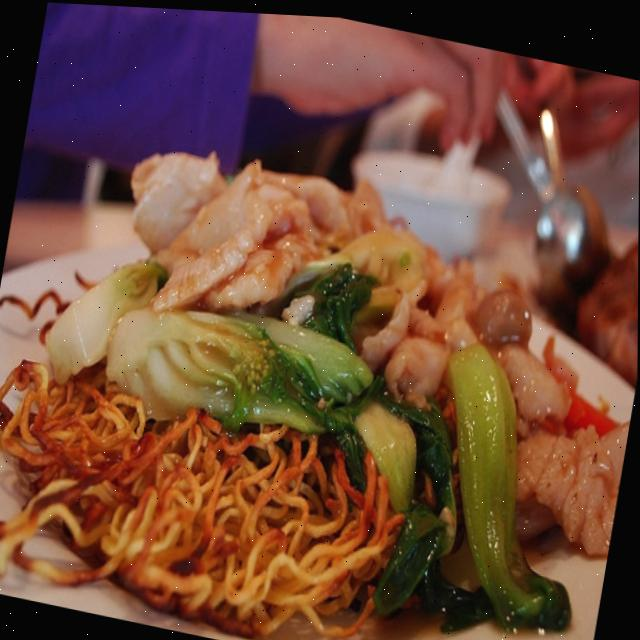面条主食: (0, 117, 639, 640)
